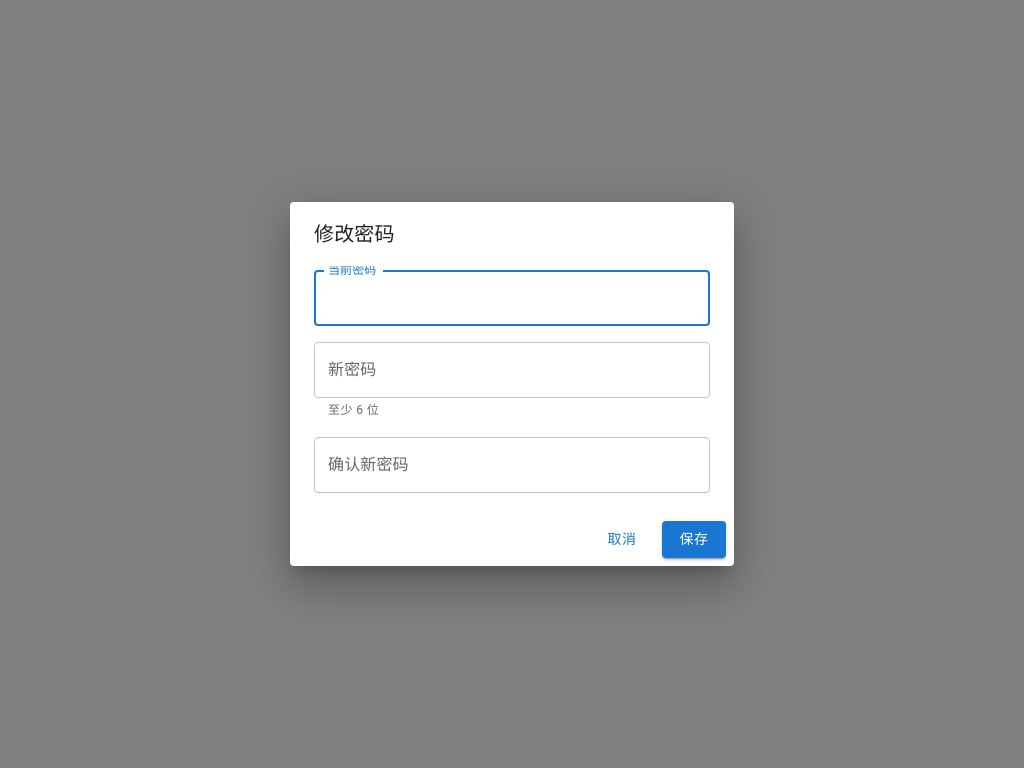
Scenario: ChangePasswordDialog › 新密码太短时本地就拦下，不白跑一趟后端
Step 1. Type "old1234" into the password field labelled "当前密码" → (512, 298), box [314,270,710,326]
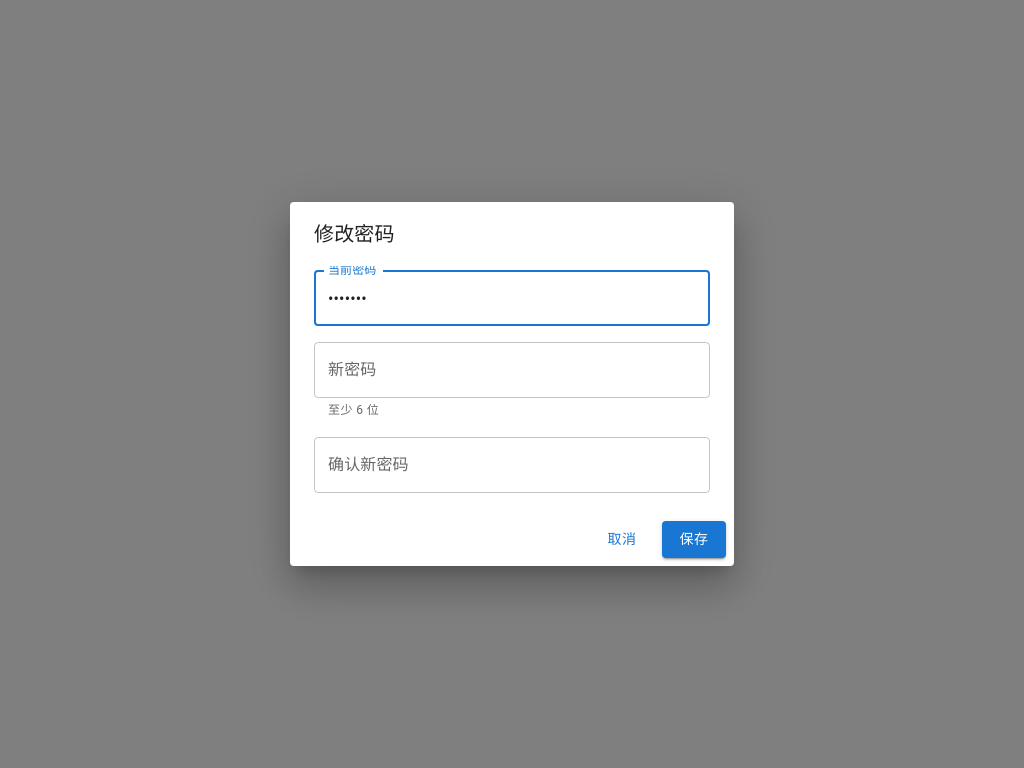
Step 2. Type "abc" into the password field labelled "新密码" → (512, 370), box [314,342,710,398]
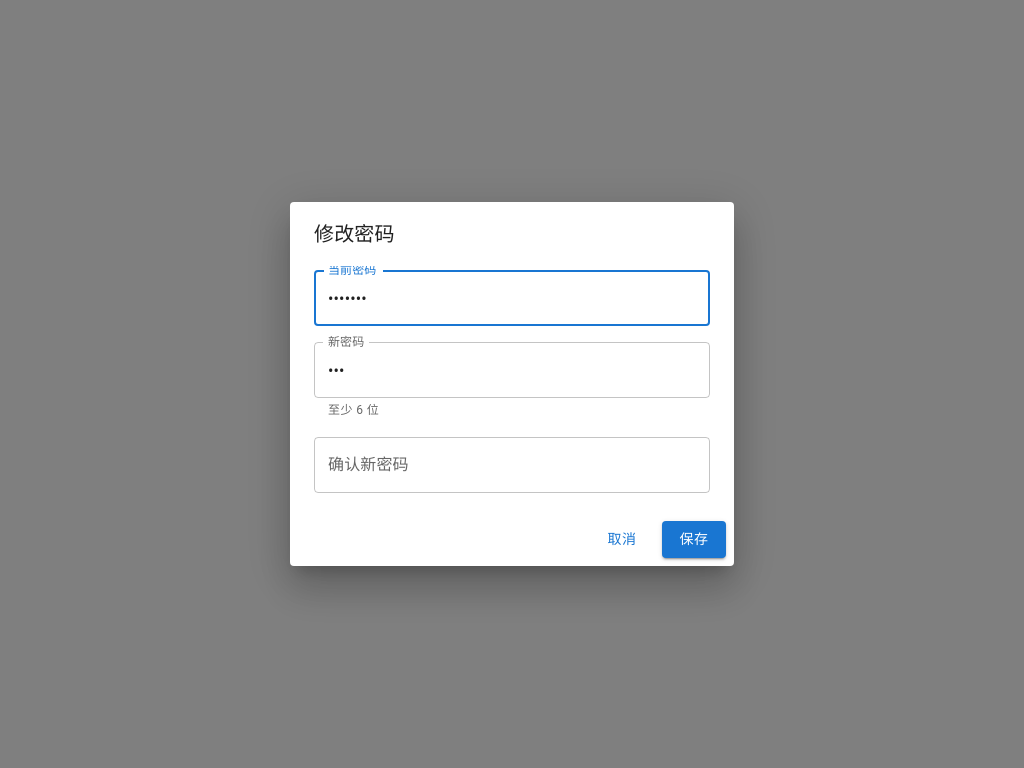
Step 3. Type "abc" into the password field labelled "确认新密码" → (512, 465), box [314,437,710,493]
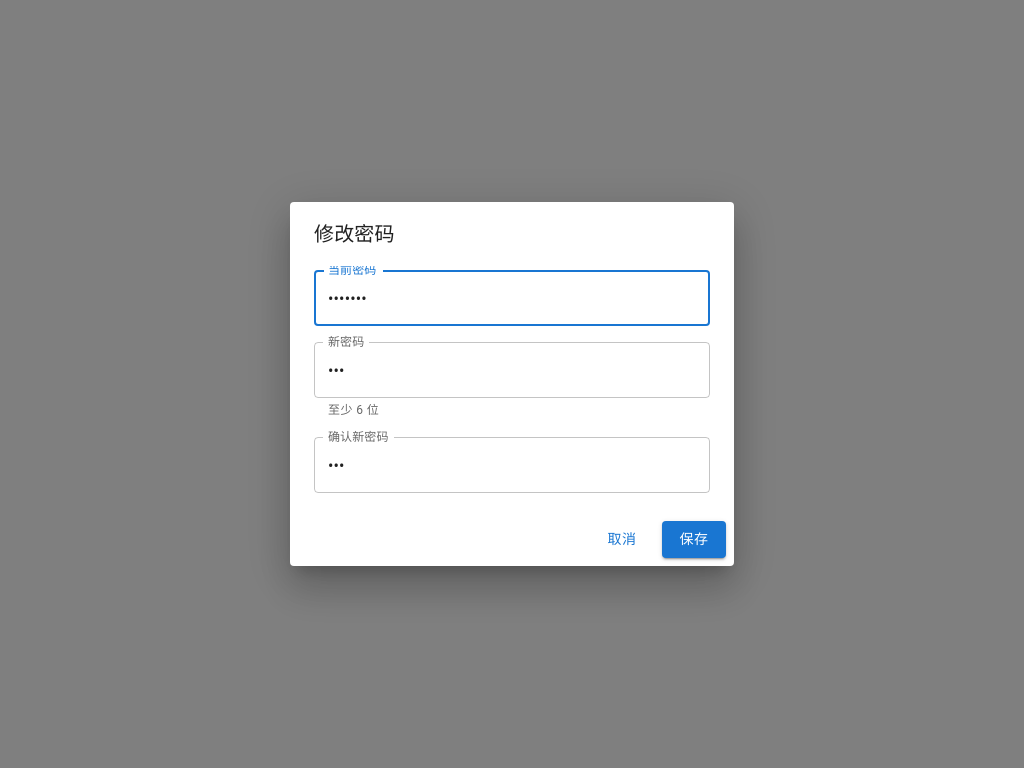
Step 4. Click the button "保存" → (694, 539), box [662,521,726,558]
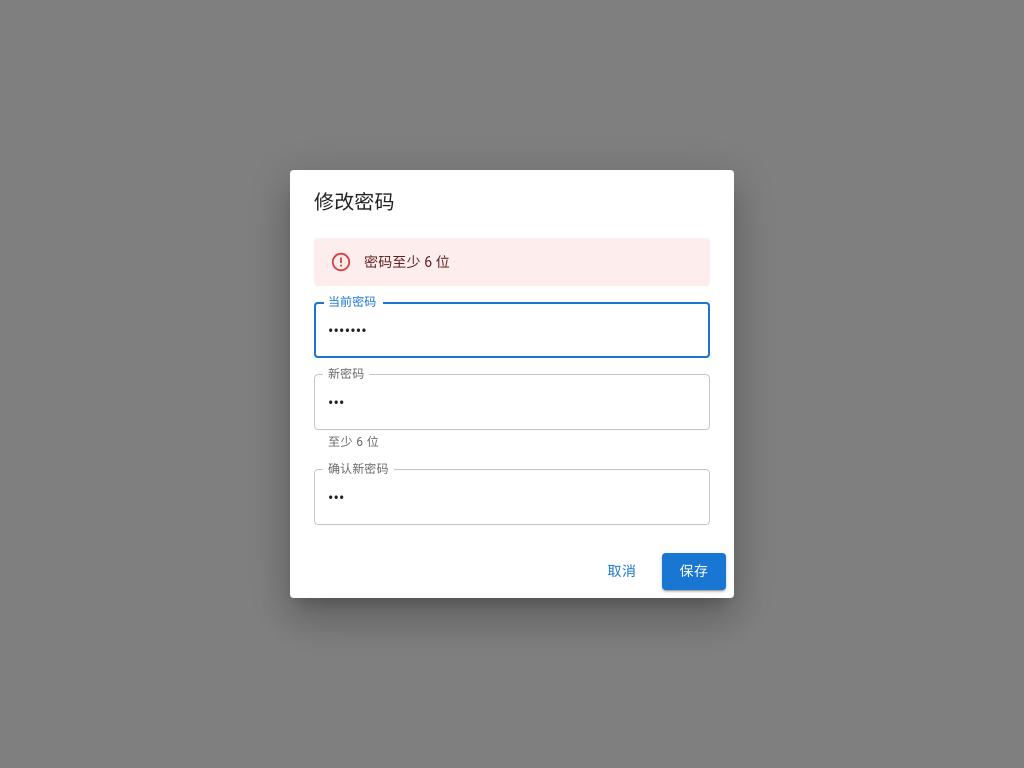
Expected: the text "密码至少 6 位" is shown, [364,254,450,270]
